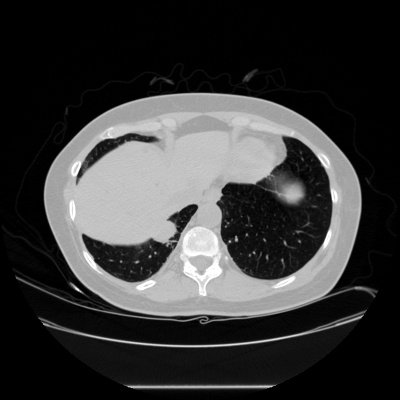PN: (156, 223, 174, 241)
